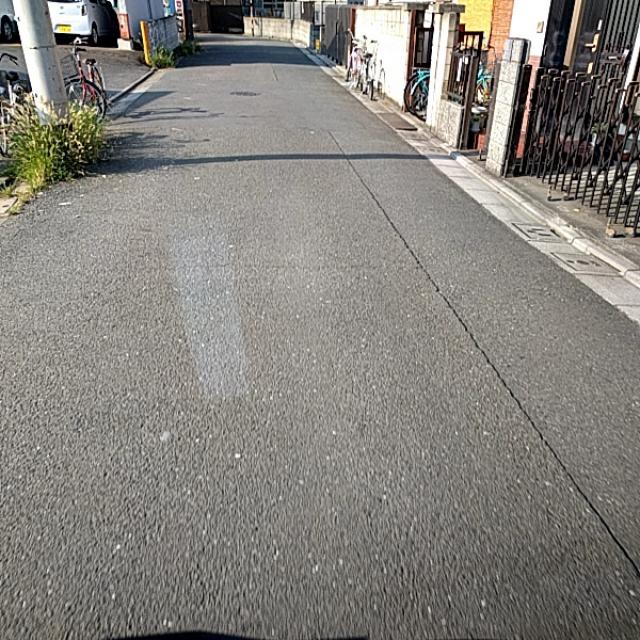pothole: (400, 278, 501, 380)
